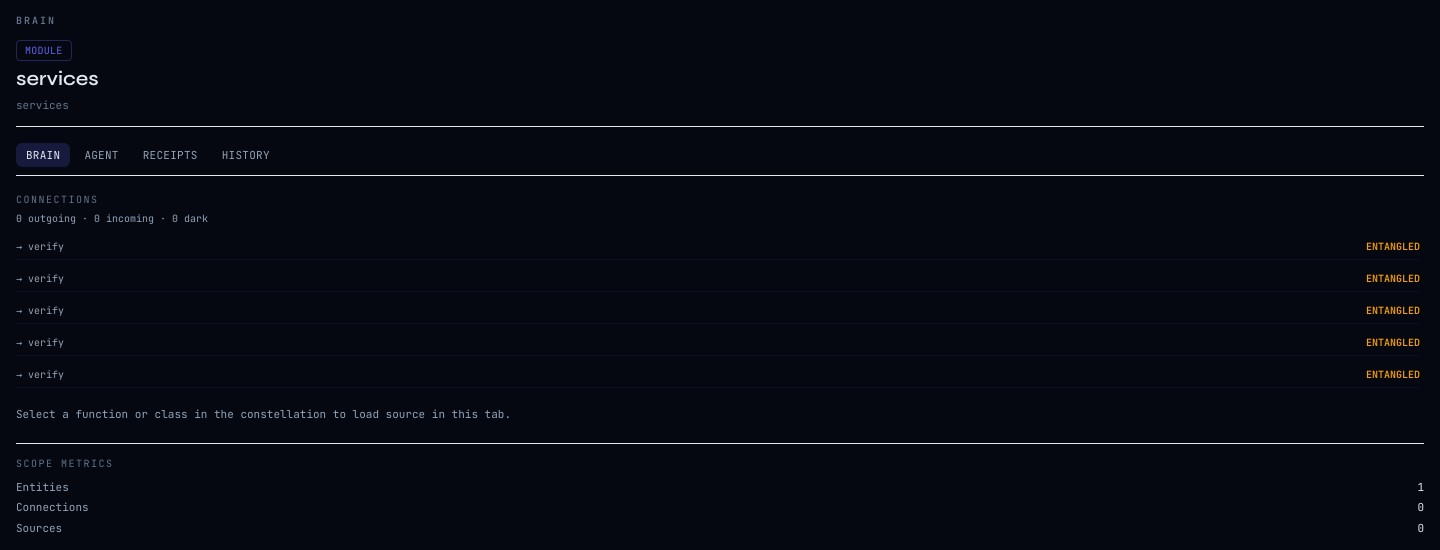
Test: XRayTab › renders RECEIPTS empty state (no actions)
What coordinates should you click on to do the following:
click the tab "RECEIPTS"
I would click on:
 (170, 155)
Its box is [133,142,208,167].
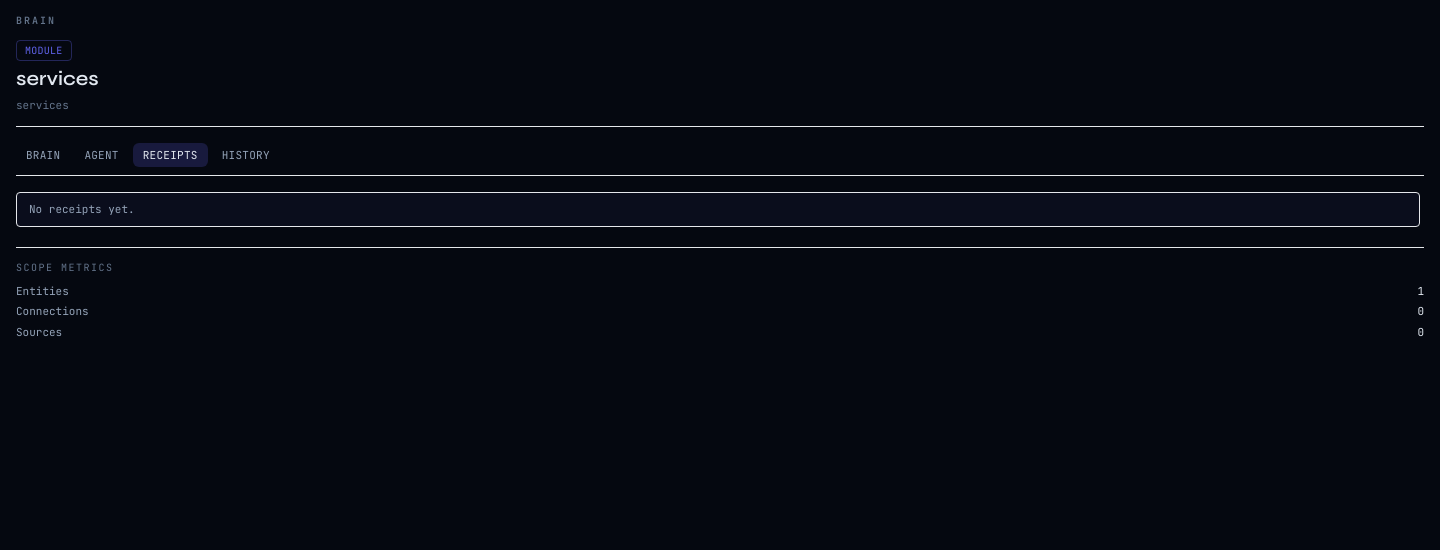
Expected: the text "No receipts yet" is shown, [29,202,135,216]
